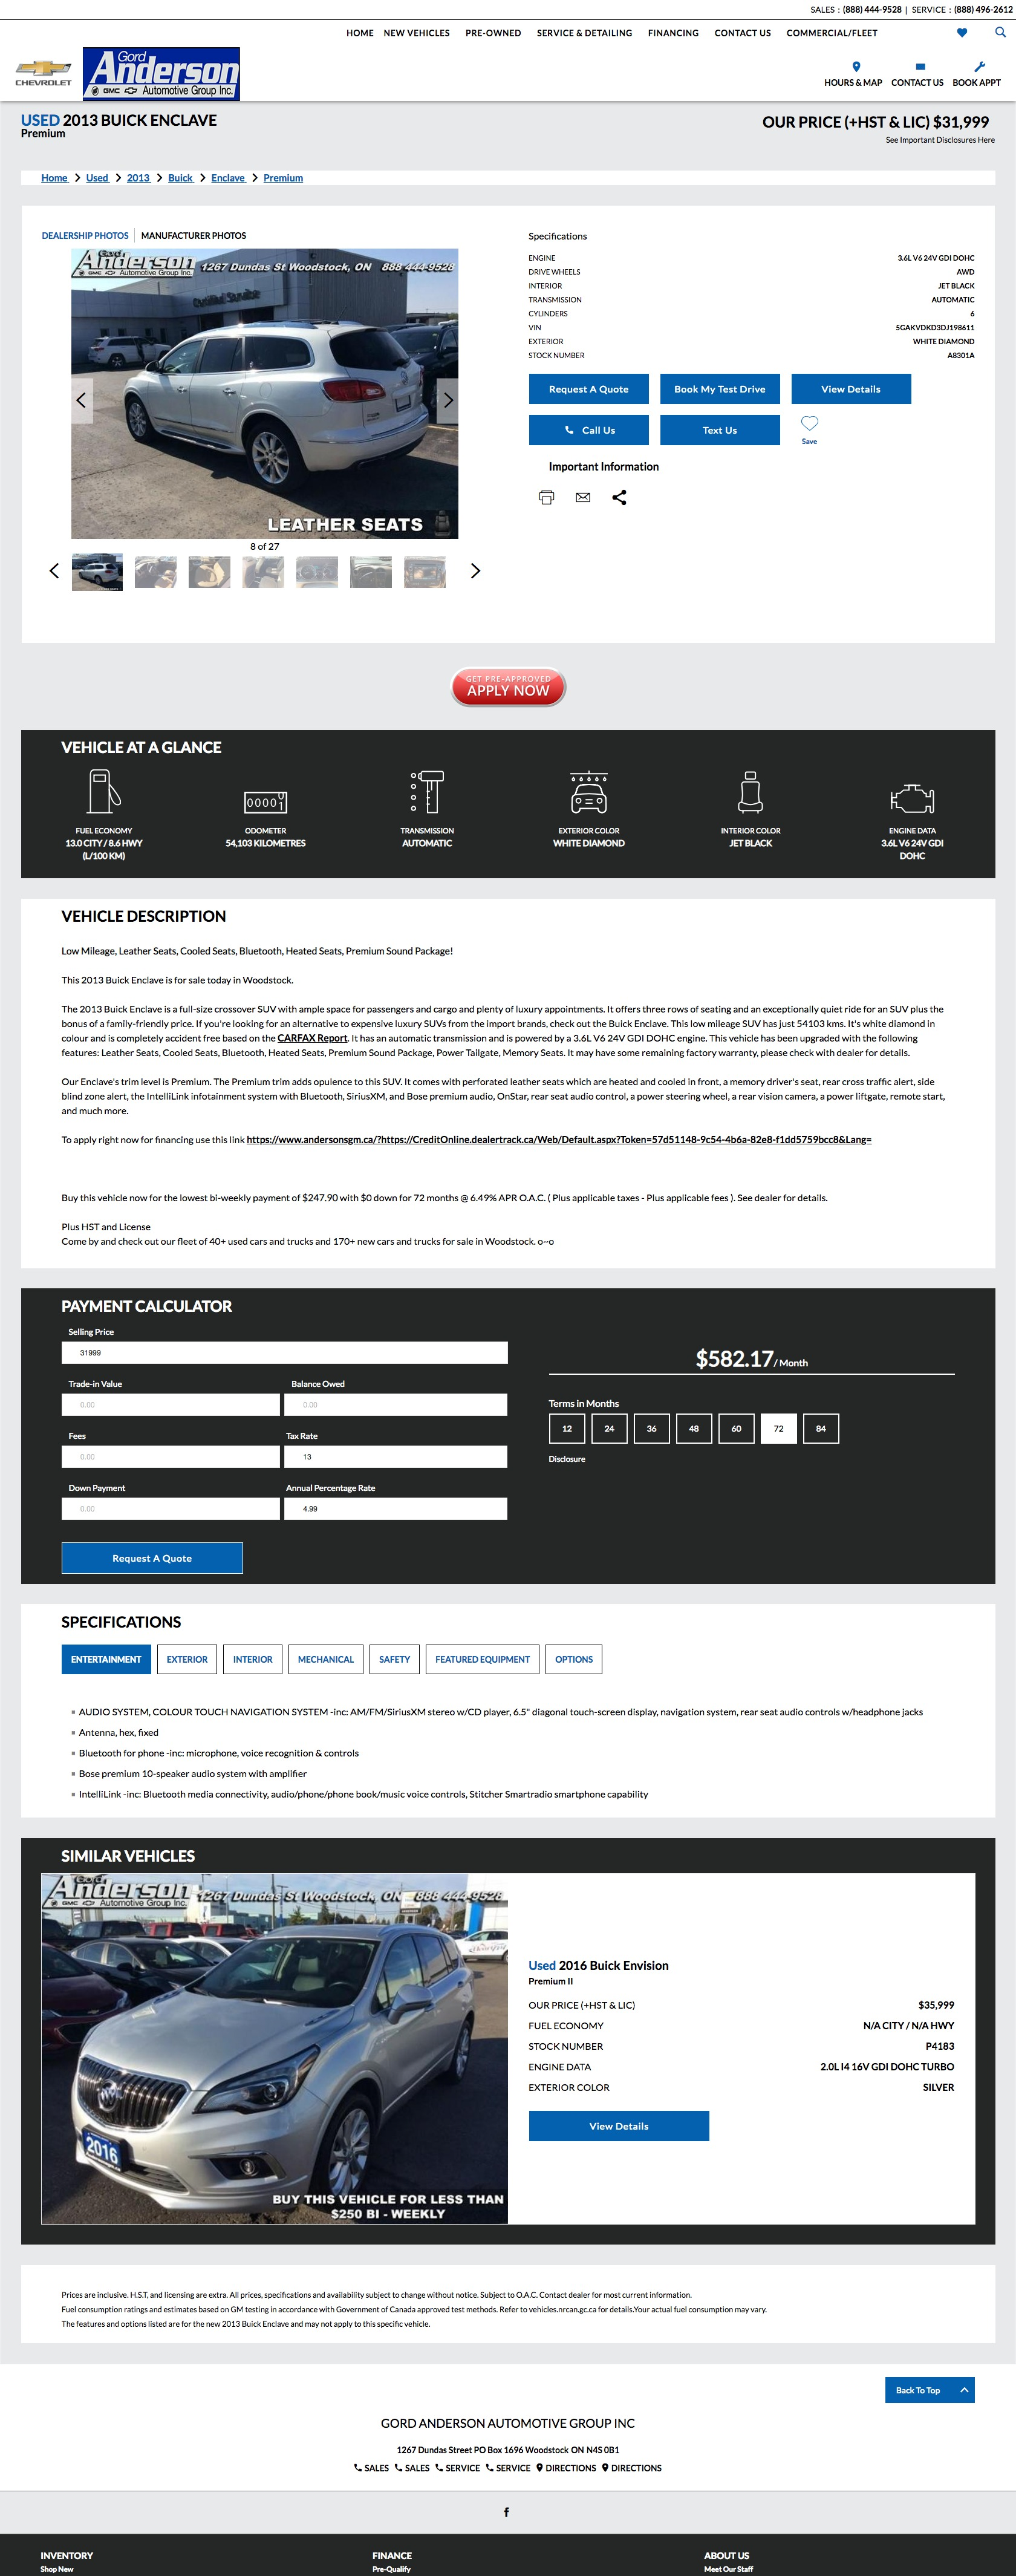car: (469, 563, 481, 580)
